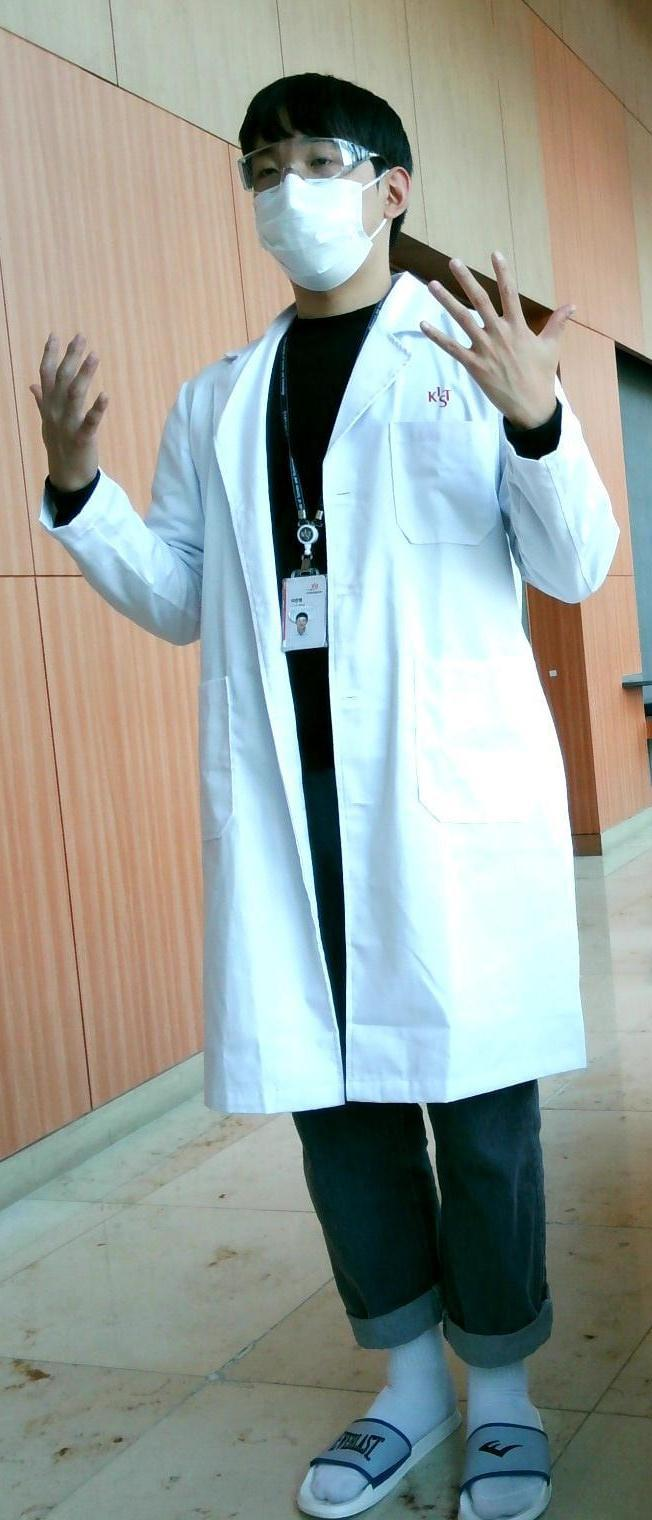lab_coat: (173, 357, 471, 1104)
